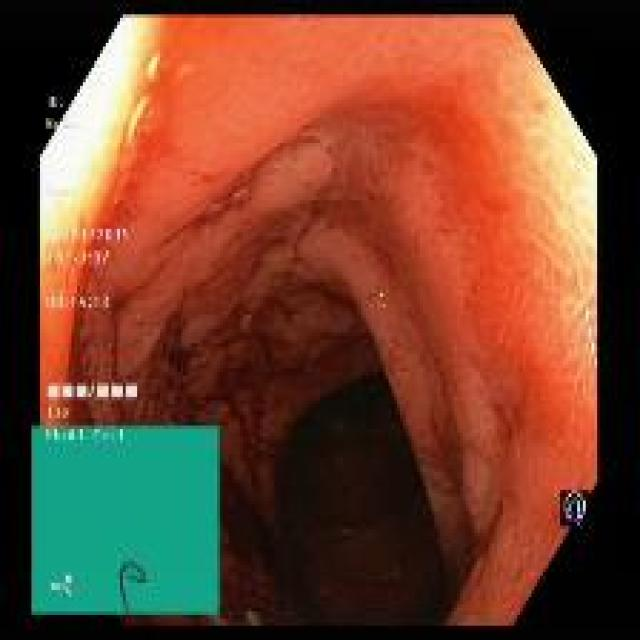ulcerative-colitis: (70, 19, 596, 622)
